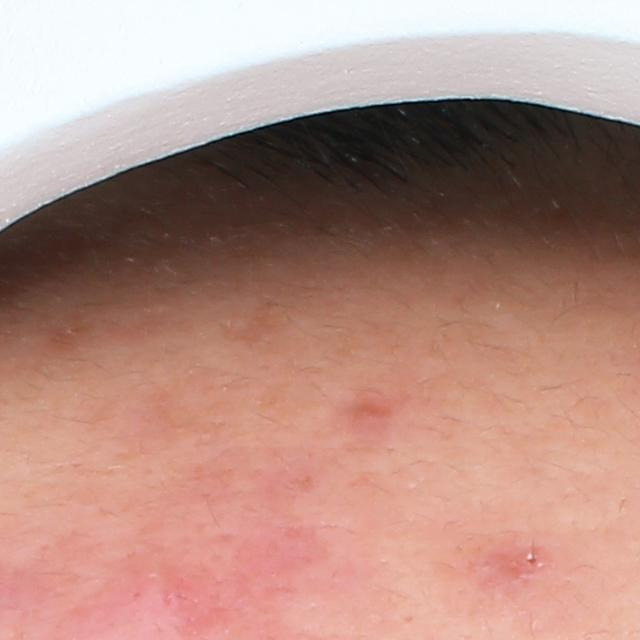papule: (352, 398, 398, 431)
